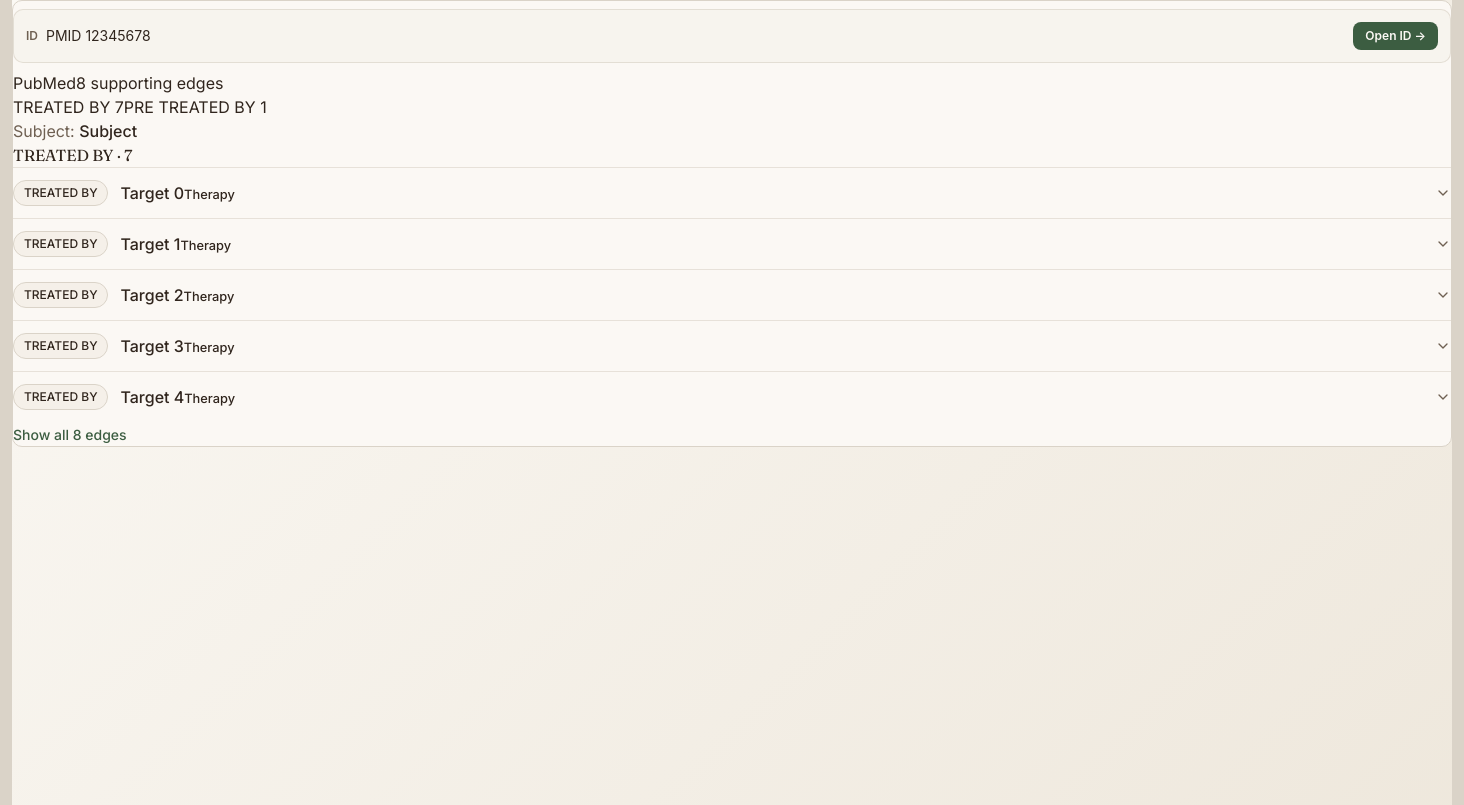
Test: defers unrequested rows and panels while preserving all edge counts and reference links
The width and height of the screenshot is (1464, 805).
Later steps or results of the test are not shown.
Check: the number of headings with class "reference-edge-row" is 5, box top-left (13, 180), bottom-right (1451, 206); top-left (13, 231), bottom-right (1451, 257); top-left (13, 282), bottom-right (1451, 308); top-left (13, 333), bottom-right (1451, 359); top-left (13, 384), bottom-right (1451, 410)
Check: the text "8 supporting edges" is shown, box top-left (76, 73), bottom-right (224, 93)
Click the button "Show all 8 edges": (70, 435) top-left (13, 425), bottom-right (127, 445)
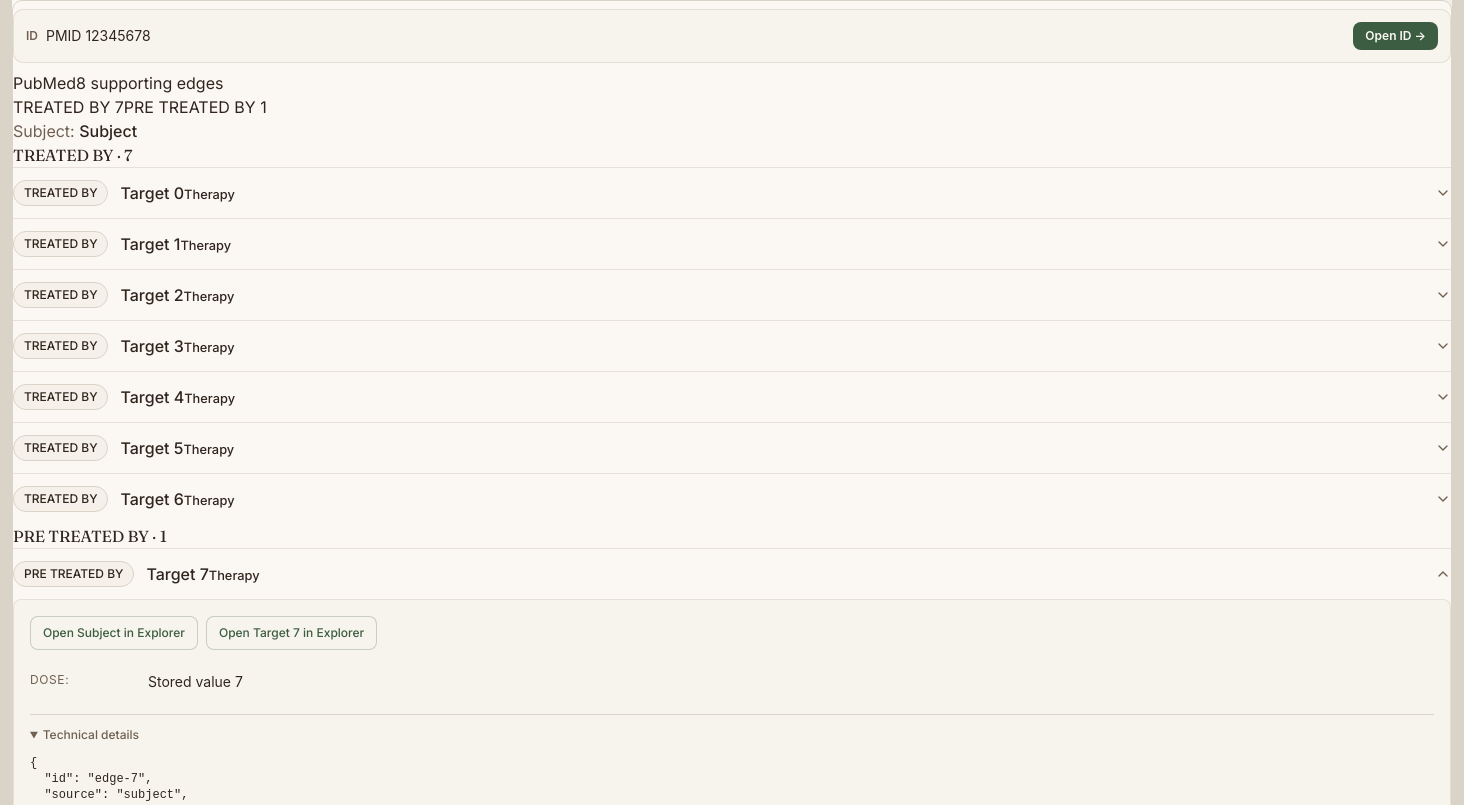
Check: the number of headings with class "reference-edge-row" is 8
Check: the text "Stored value 7" is shown, box top-left (148, 673), bottom-right (243, 690)
